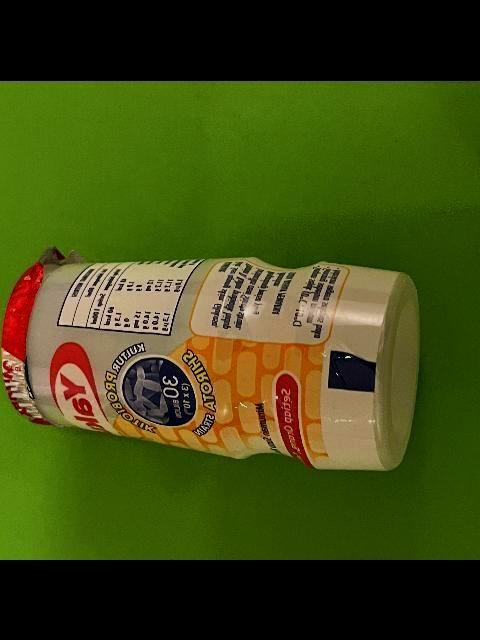plasticbottle: (0, 243, 421, 472)
